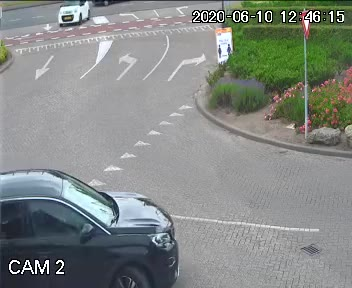car: (0, 150, 191, 288), (48, 3, 93, 30)
